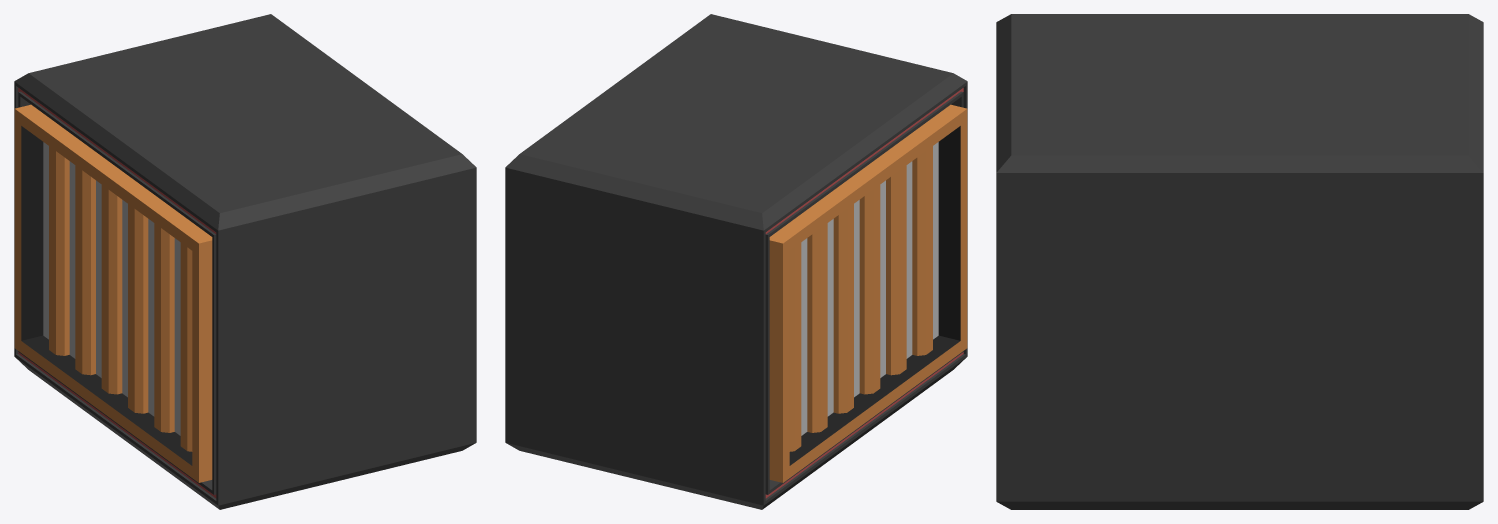
Rendered from Data_Box_01_E.FBX.
3 renders of one model, left to right at view 1: azimuth 30°, elevation 25°; view 2: azimuth 150°, elevation 25°; view 3: azimuth 270°, elevation 25°, orthographic. The views are drawn at different scales.
Visible parts, largest first — view 1: Data_Box_01_E_LOD0; view 2: Data_Box_01_E_LOD0; view 3: Data_Box_01_E_LOD0.
Part boxes in pixels (x1,y1,x2,y2): Data_Box_01_E_LOD0: (14, 14, 476, 509); Data_Box_01_E_LOD0: (505, 14, 967, 509); Data_Box_01_E_LOD0: (996, 14, 1483, 509).
Size of what is drawn, in the model's own units: 25.92 by 27.42 by 34.16.
